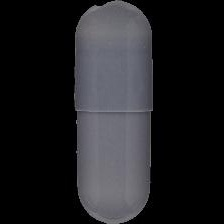68258-6024: (0, 0, 224, 224)
